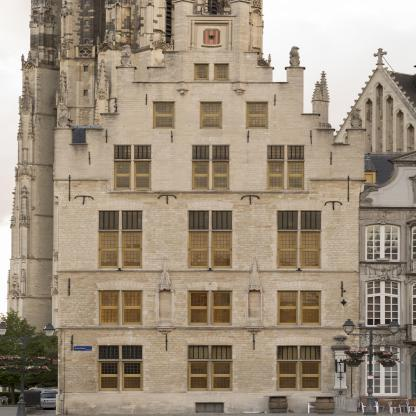Building Outline: (51, 0, 367, 415)
Cornice: (97, 280, 144, 289), (96, 336, 144, 344), (96, 201, 144, 209), (276, 336, 323, 344), (187, 336, 234, 344), (276, 201, 323, 209), (187, 201, 234, 209), (276, 281, 323, 289), (187, 281, 234, 289)
Deco: (154, 256, 176, 334), (243, 257, 265, 334), (197, 25, 226, 48), (57, 106, 69, 128), (120, 45, 132, 66), (289, 46, 301, 67), (350, 108, 362, 129)
Facade: (58, 144, 359, 416)
Floor: (58, 200, 359, 278), (55, 139, 364, 200), (58, 278, 359, 335), (117, 94, 303, 138)
Floor Slab: (58, 273, 359, 278), (58, 330, 359, 334), (58, 195, 359, 199), (86, 134, 333, 138), (117, 89, 303, 94)
Ground Floor: (58, 334, 359, 415)
Top Floor: (164, 52, 258, 94)
Window: (301, 231, 321, 268), (122, 231, 142, 268), (212, 231, 232, 268), (278, 232, 298, 268), (99, 232, 119, 268), (189, 232, 209, 268), (122, 291, 142, 325), (99, 291, 118, 325), (301, 291, 320, 325), (278, 291, 297, 325), (212, 291, 231, 325), (189, 291, 208, 325), (278, 361, 298, 391), (99, 361, 119, 391), (122, 361, 142, 391), (189, 361, 209, 391), (212, 361, 232, 391), (301, 361, 320, 391), (154, 102, 175, 129), (201, 102, 222, 129), (247, 102, 267, 129), (114, 161, 131, 190), (134, 161, 151, 190), (192, 161, 209, 190), (212, 161, 229, 190), (268, 161, 284, 190), (288, 161, 304, 190), (301, 211, 321, 229), (122, 211, 142, 229), (212, 211, 232, 229), (278, 211, 297, 229), (99, 211, 118, 229), (189, 211, 208, 229), (196, 403, 224, 413), (277, 346, 297, 359), (122, 346, 142, 359), (212, 346, 232, 359), (301, 346, 320, 359), (99, 346, 118, 359), (189, 346, 208, 359), (287, 146, 304, 160), (134, 146, 151, 160), (114, 146, 131, 160), (212, 146, 229, 160), (192, 146, 209, 160), (268, 146, 284, 160), (215, 64, 228, 80), (195, 64, 208, 80)
dont: (341, 319, 370, 339), (263, 395, 293, 414), (308, 396, 339, 414), (339, 350, 369, 367), (242, 407, 261, 414)
